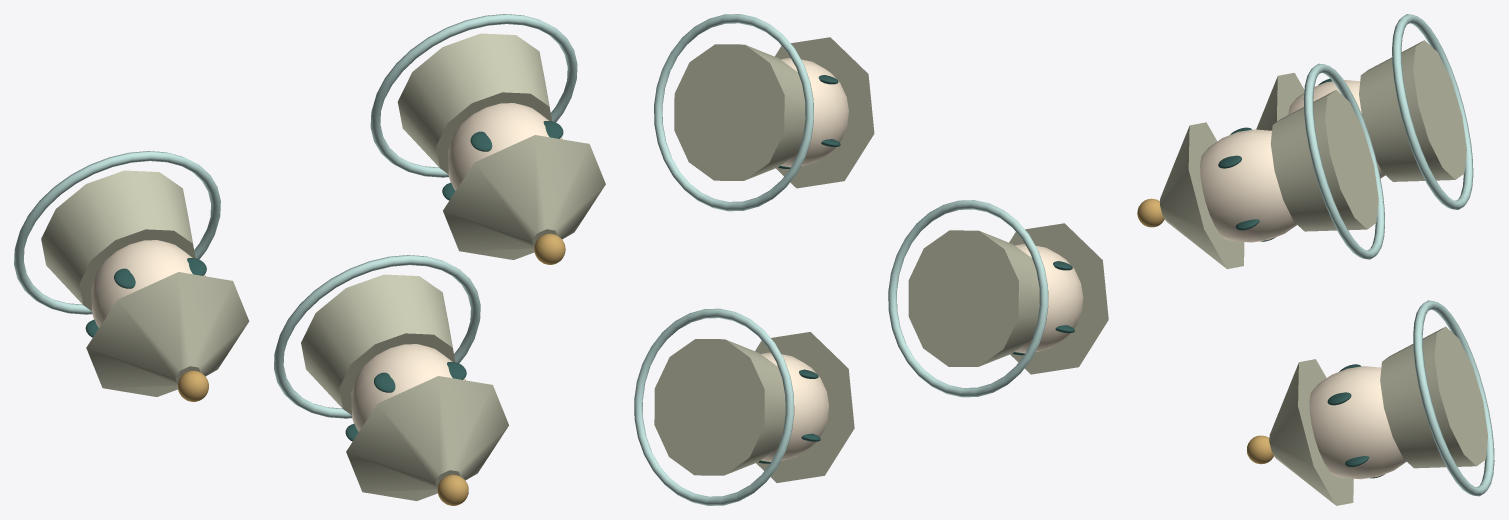
Rendered from towers.glb.
3 renders of one model, left to right at view 1: azimuth 30°, elevation 25°; view 2: azimuth 150°, elevation 25°; view 3: azimuth 270°, elevation 25°, orthographic. The views are drawn at different scales.
Parts seen in each view (by area): view 1: towers (×5); view 2: towers (×4); view 3: towers (×5).
Boxes of the visible parts, x1=… form: towers (×5): x1=14, y1=14, x2=605, y2=505; towers (×4): x1=634, y1=14, x2=1108, y2=505; towers (×5): x1=1137, y1=14, x2=1494, y2=505.
Bounding box in the file's own units: 0.2135 × 0.201 × 0.1442.
